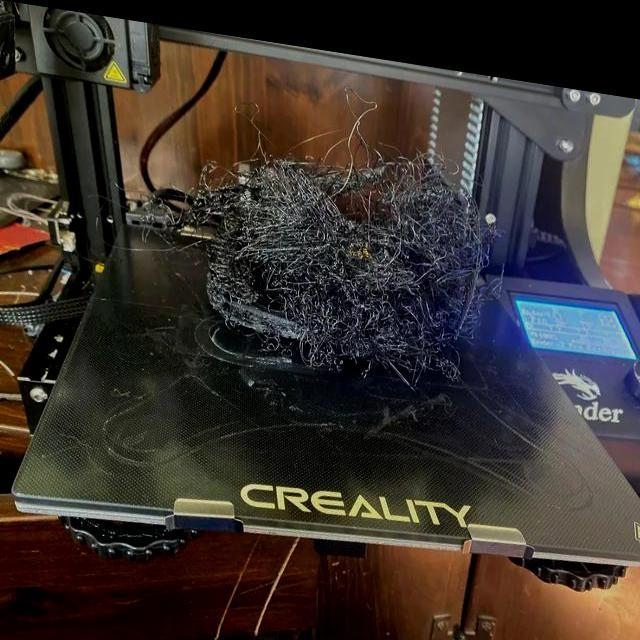spaghetti: (226, 147, 374, 273), (297, 264, 443, 360), (372, 151, 461, 275)
